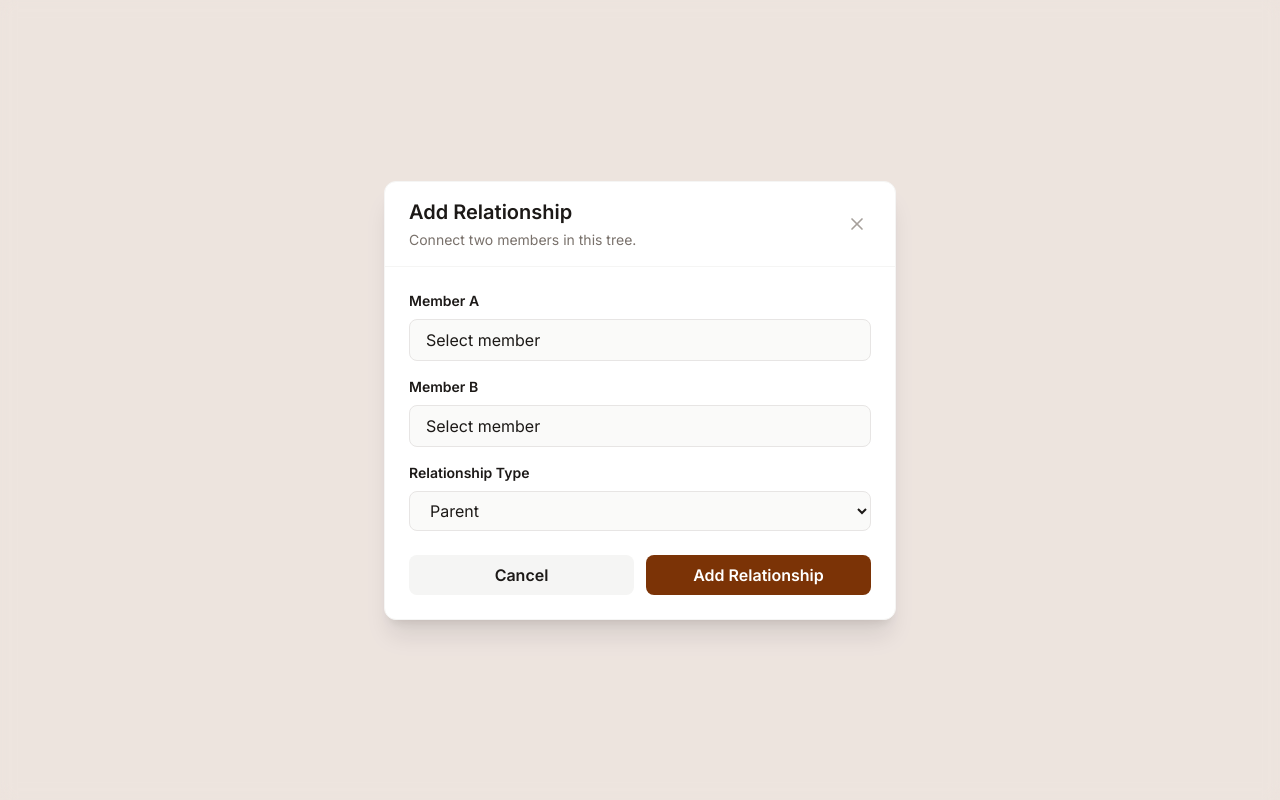
Test case: AddRelationshipModal › shows localized empty state when search has no matches
The image size is (1280, 800).
Click the button "Select member" below "Member A". click: (483, 340)
box: left=409, top=318, right=871, bottom=360
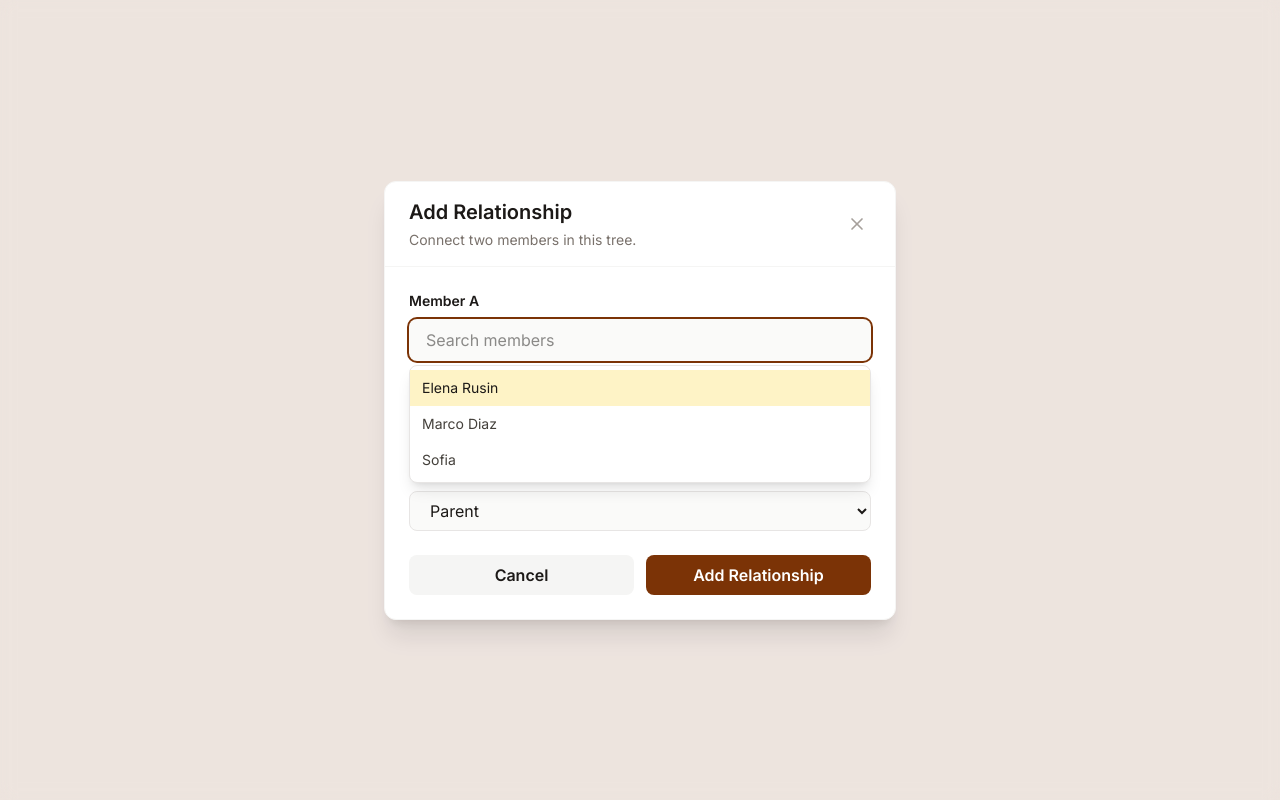
Type "zzzzz" into the dropdown with placeholder "Search members". click: (640, 340)
box: left=409, top=318, right=871, bottom=360
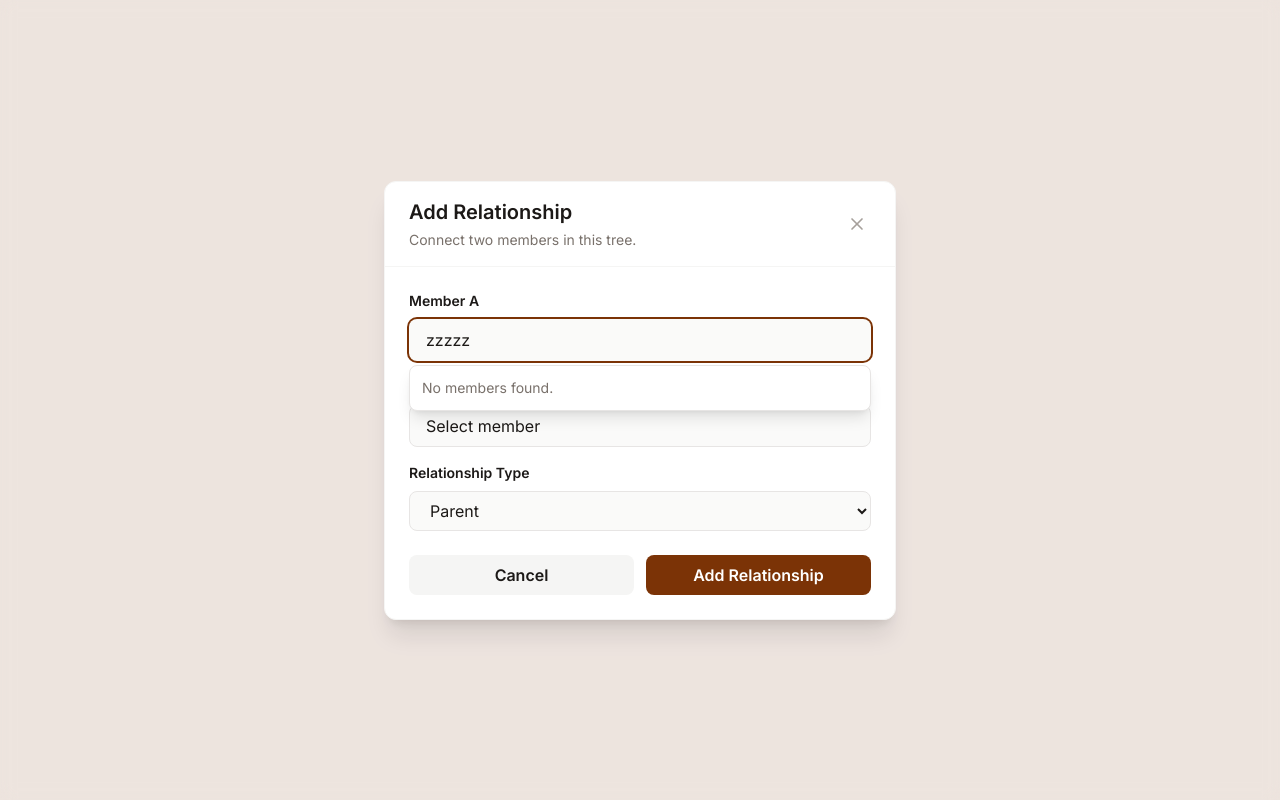
Expected: the list item "No members found." is shown, left=422, top=378, right=553, bottom=396
